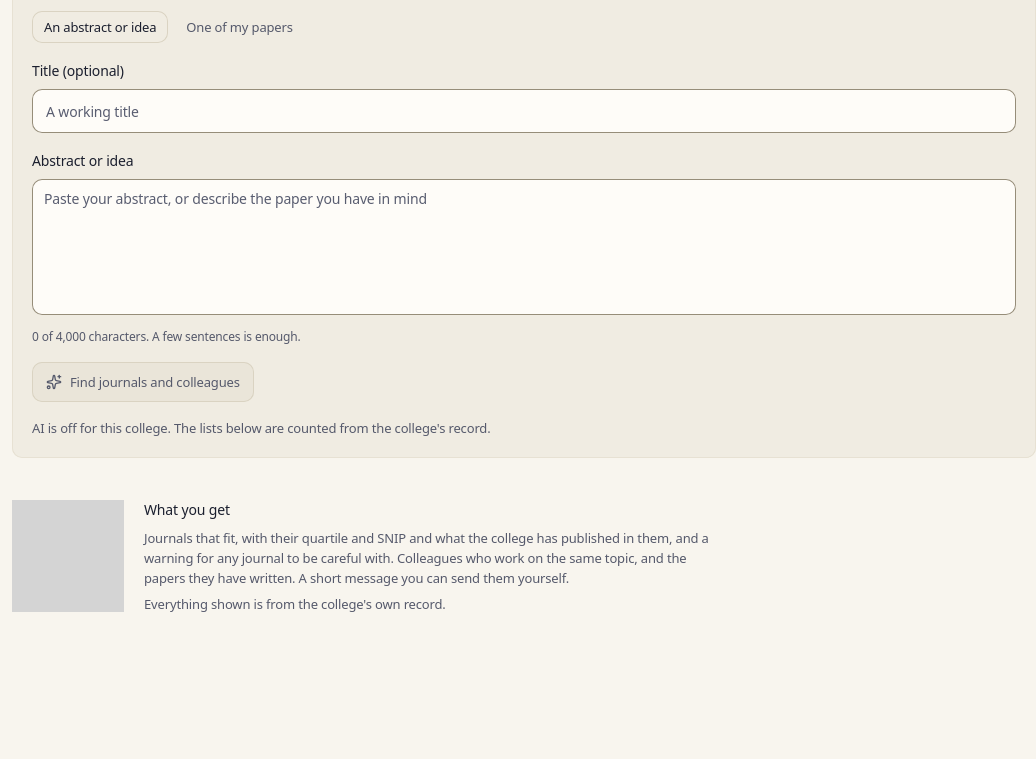
Test: Research helper: AI off › shows the counted lists and says AI is off, with no AI marks and no AI request
Check: the text "AI is off for this college." is shown, box left=32, top=419, right=490, bottom=437
Step 1. Type "We design a maximum power point tracking controller for photovoltaic arrays under partial shading." into the text box labelled "Abstract or idea" → (524, 247), box left=32, top=179, right=1016, bottom=315
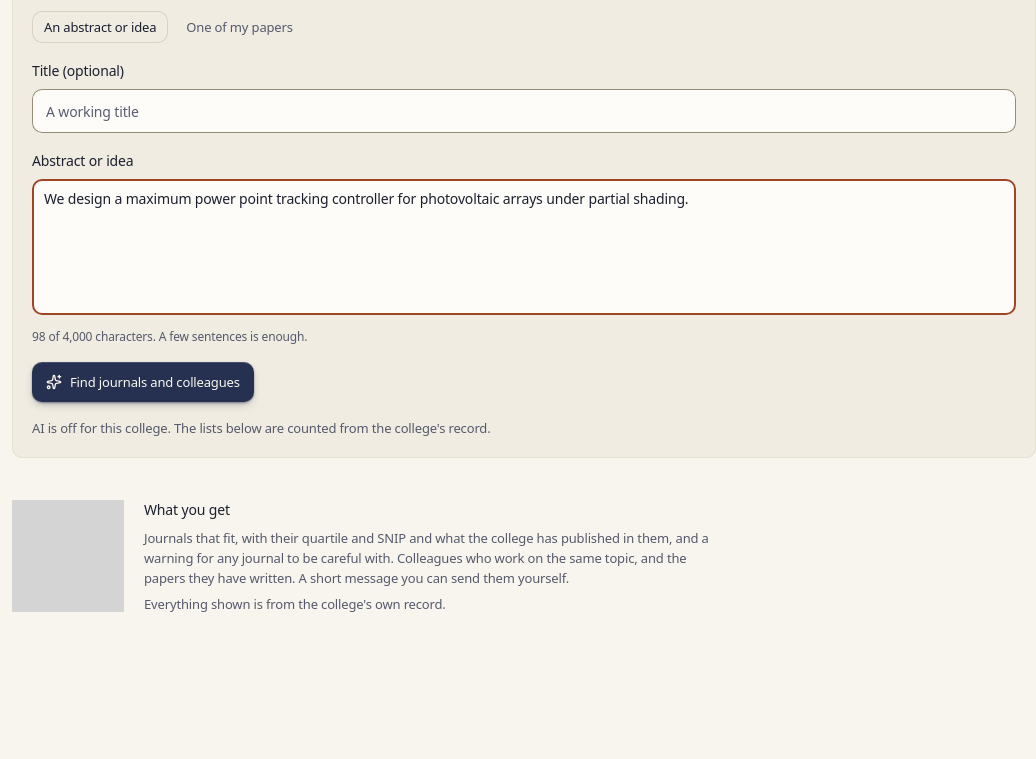
Step 2. Click the button "Find journals and colleagues" → click(143, 382), box left=32, top=362, right=254, bottom=402
(page scrolled)
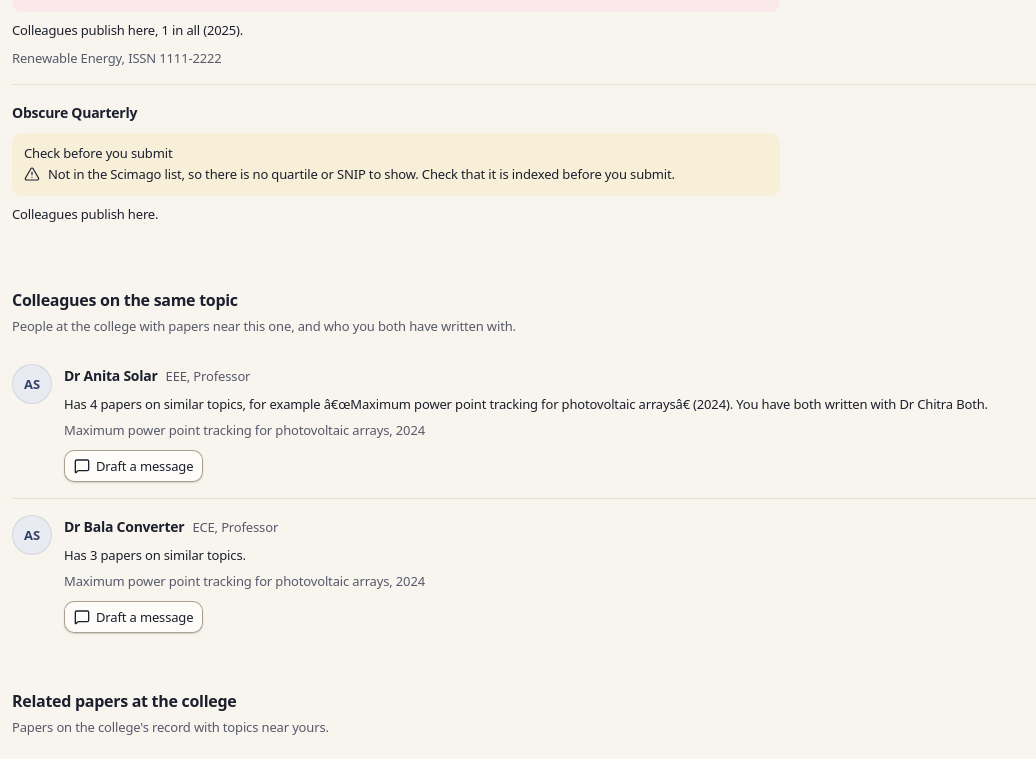
Check: the heading "Colleagues on the same topic" is shown, box left=12, top=288, right=238, bottom=310
Check: the heading "Related papers at the college" is shown, box left=12, top=690, right=236, bottom=712
Check: the link "Dr Anita Solar" is shown, box left=64, top=366, right=158, bottom=384
